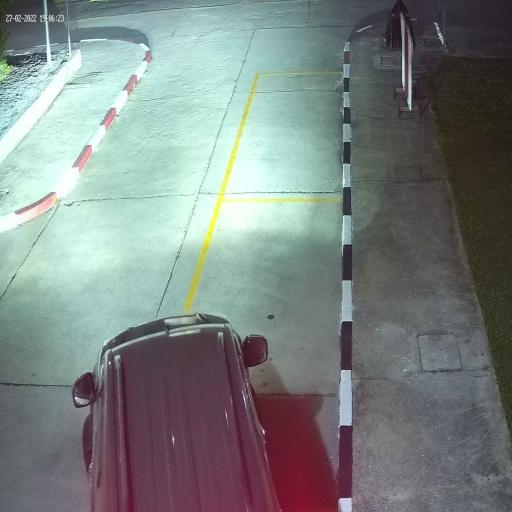car: (81, 312, 281, 512)
